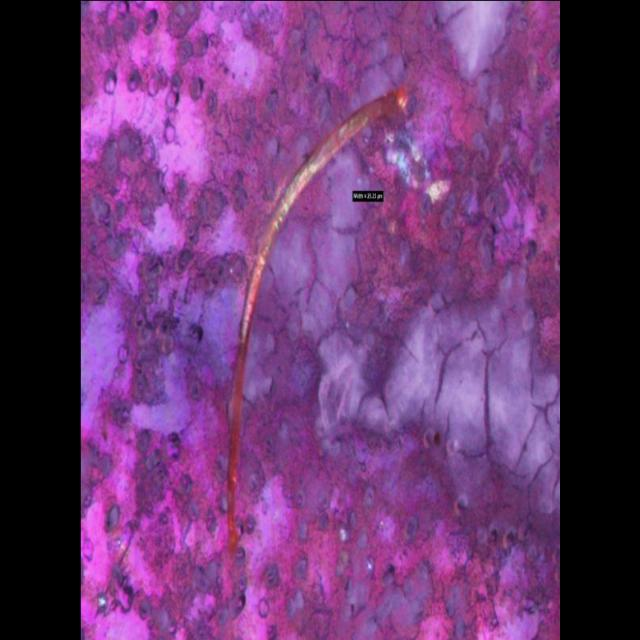Fibre: (223, 81, 413, 553)
